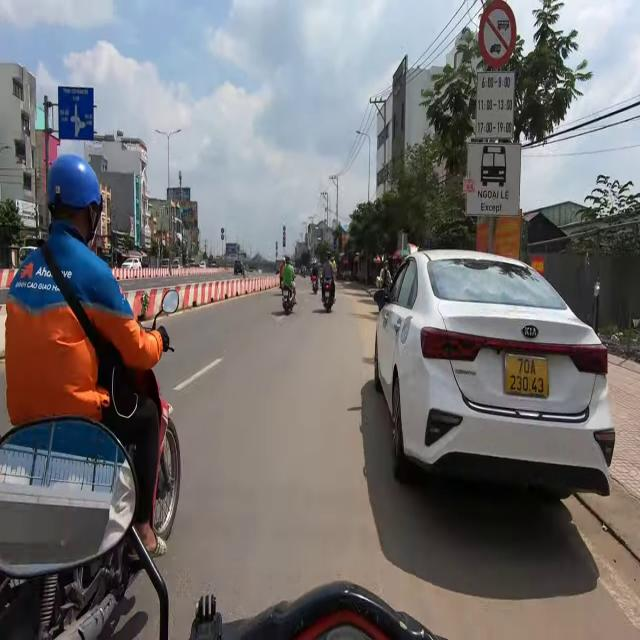bien_vang: (505, 351, 550, 401)
